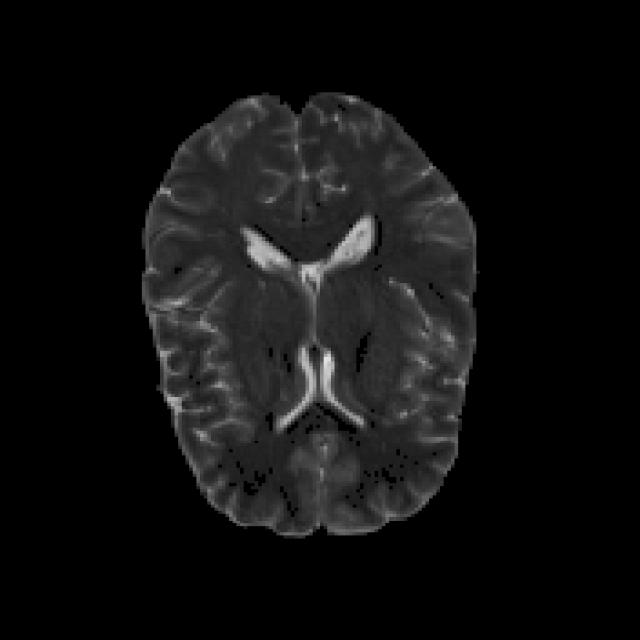parkinson: (138, 86, 480, 539)
